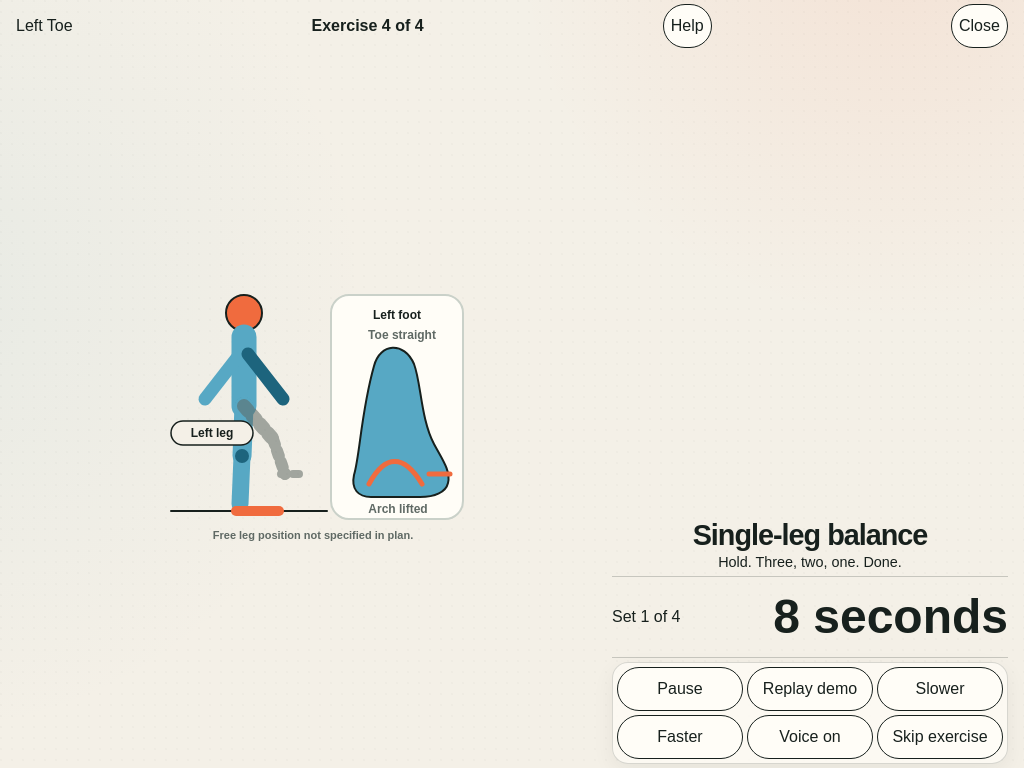
it: SessionPlayer › cancels a pending exact-hold Keep resume when pagehide precedes capability settlement
Click the button "Skip exercise" at (940, 737), box [877,715,1003,759]
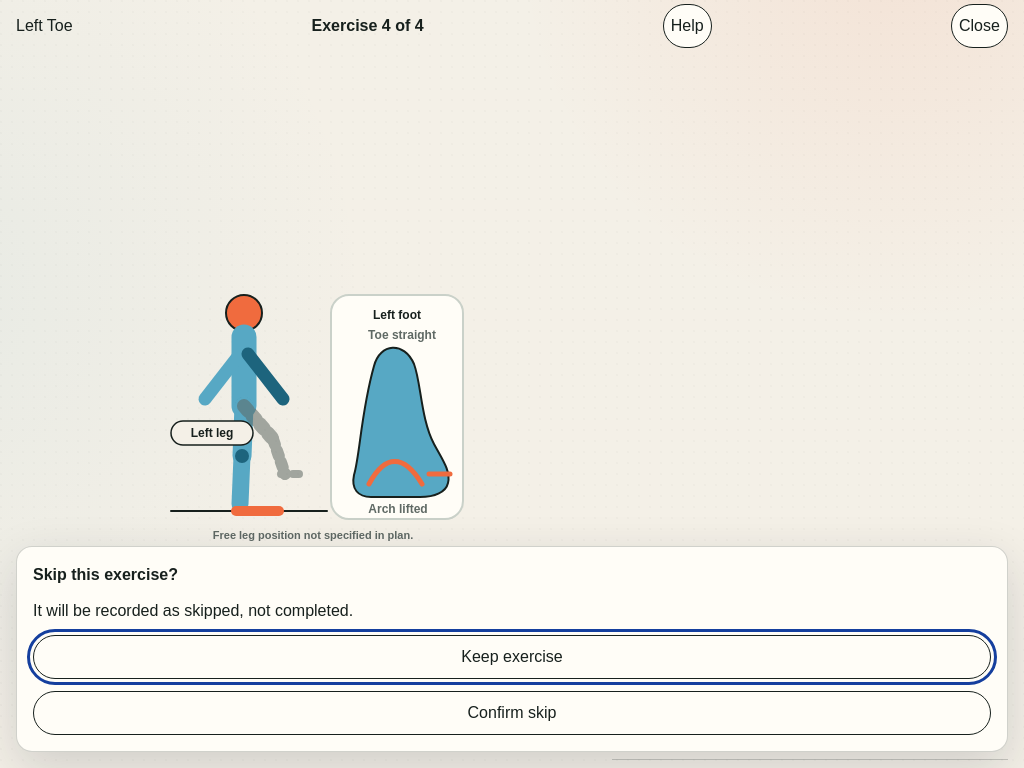
Click the button "Keep exercise" at (512, 657), box [33,635,991,679]
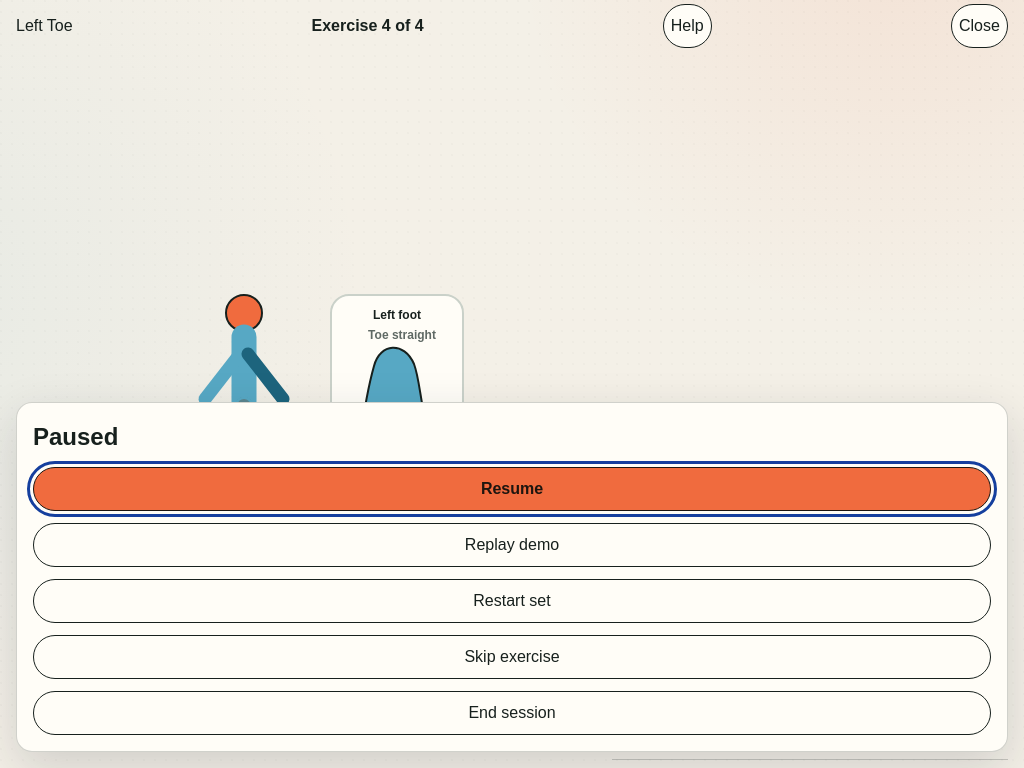
expect the text "8 seconds" is shown: met, box [773,683,1008,755]
expect the button "Confirm skip" is gone: met
expect the dialog named "Session paused" is shown: met, box [16,402,1008,752]
